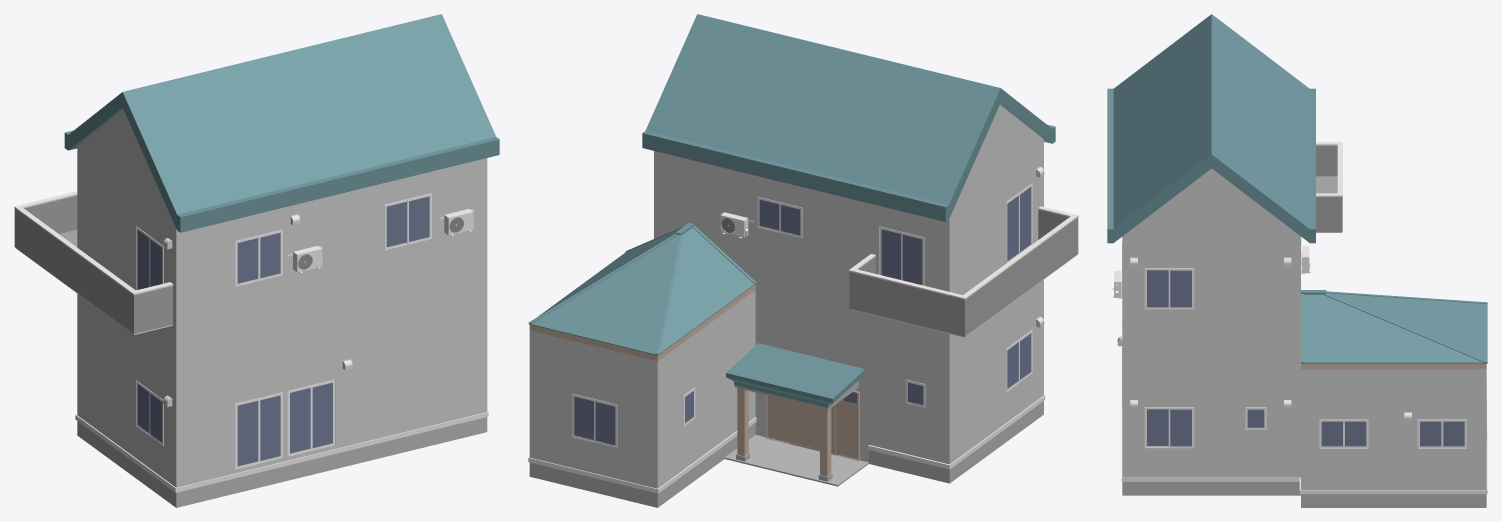
Rendered from MobHouse61.fbx.
3 renders of one model, left to right at view 1: azimuth 30°, elevation 25°; view 2: azimuth 150°, elevation 25°; view 3: azimuth 270°, elevation 25°, orthographic. The views are drawn at different scales.
Parts seen in each view (by area): view 1: Flat_half_house02.020; view 2: Flat_half_house02.020; view 3: Flat_half_house02.020.
Part boxes in pixels (box(x1,y1,x2,y2)): Flat_half_house02.020: box(14, 14, 499, 507); Flat_half_house02.020: box(528, 14, 1078, 507); Flat_half_house02.020: box(1107, 14, 1487, 507).
Bounding box in the file's own units: 10.43 × 9.91 × 9.95.
